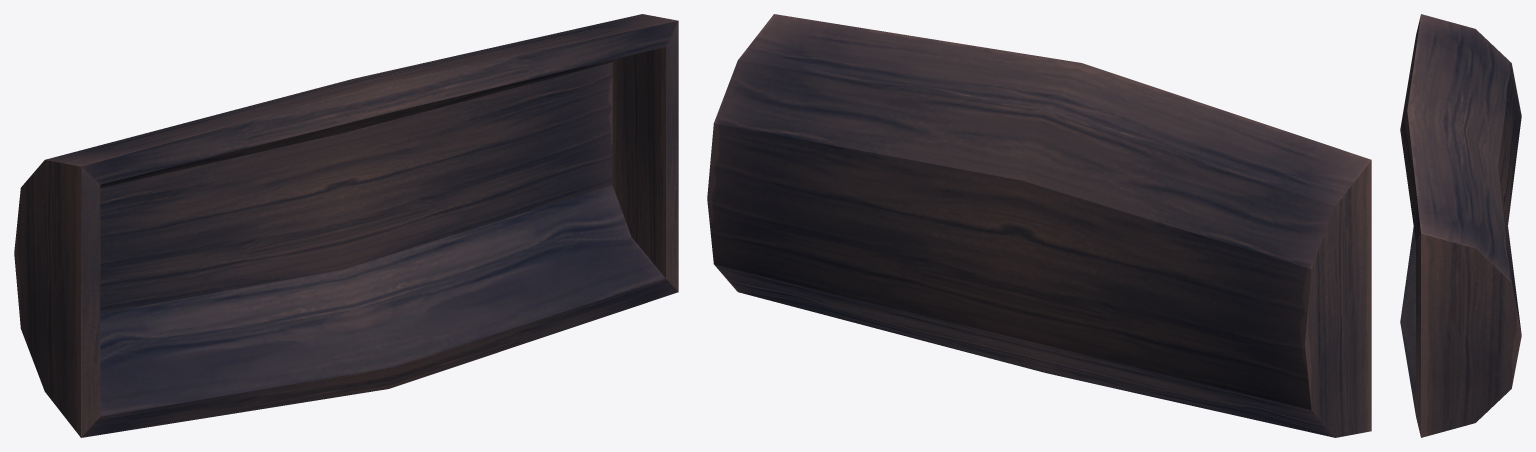
The model's file is Chest_Top_B.fbx.
The picture shows the model from 3 angles, left to right: view 1: azimuth 30°, elevation 25°; view 2: azimuth 150°, elevation 25°; view 3: azimuth 270°, elevation 25°; orthographic projection. The views are drawn at different scales.
Parts seen in each view (by area): view 1: Chest_Top_B; view 2: Chest_Top_B; view 3: Chest_Top_B.
Part boxes in pixels (bbox=[...]): Chest_Top_B: bbox=[14, 14, 678, 437]; Chest_Top_B: bbox=[707, 14, 1371, 437]; Chest_Top_B: bbox=[1400, 14, 1521, 437].
Size of the model in its own units: 0.2582 by 0.1262 by 0.0604.
